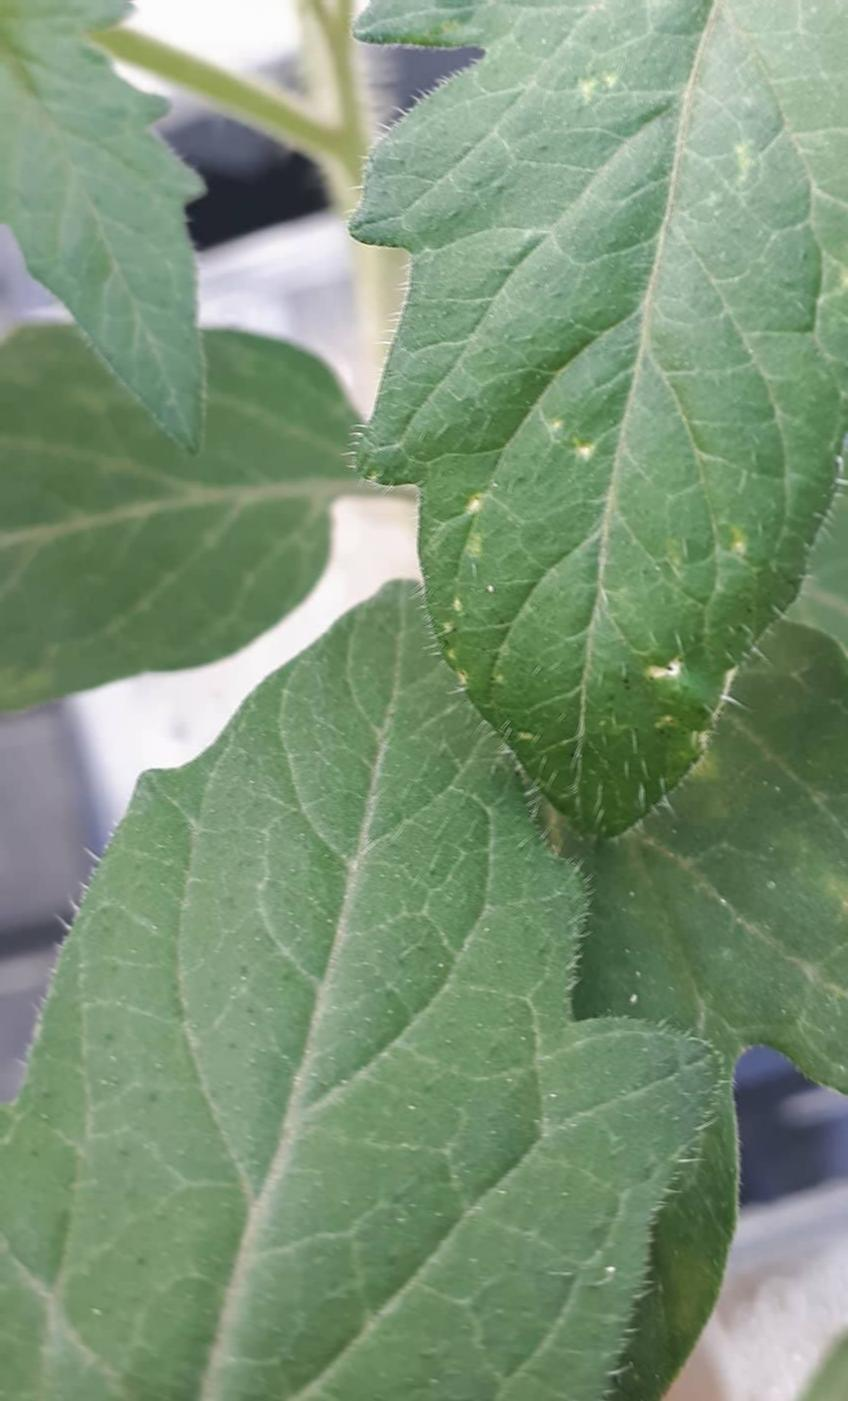Tomato mold leaf: (0, 542, 718, 1401), (328, 0, 848, 858)
